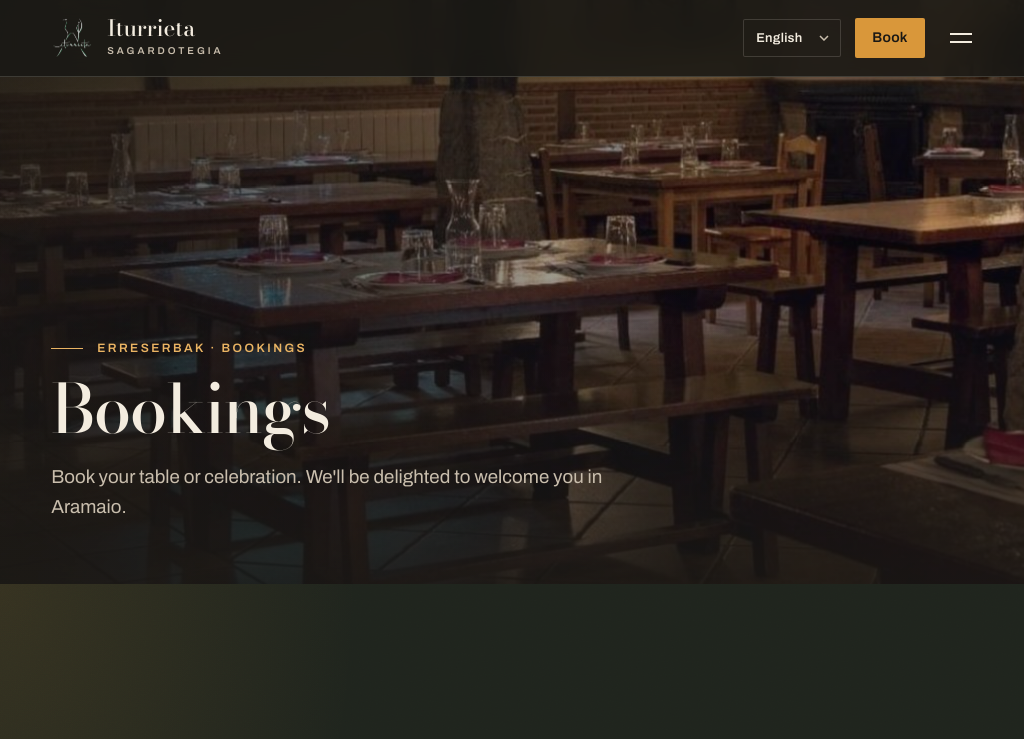
Test: switching among all five languages › translates heading, navigation, booking labels and document language
Select "Euskara" in the dropdown: (792, 38) [743,19,841,57]
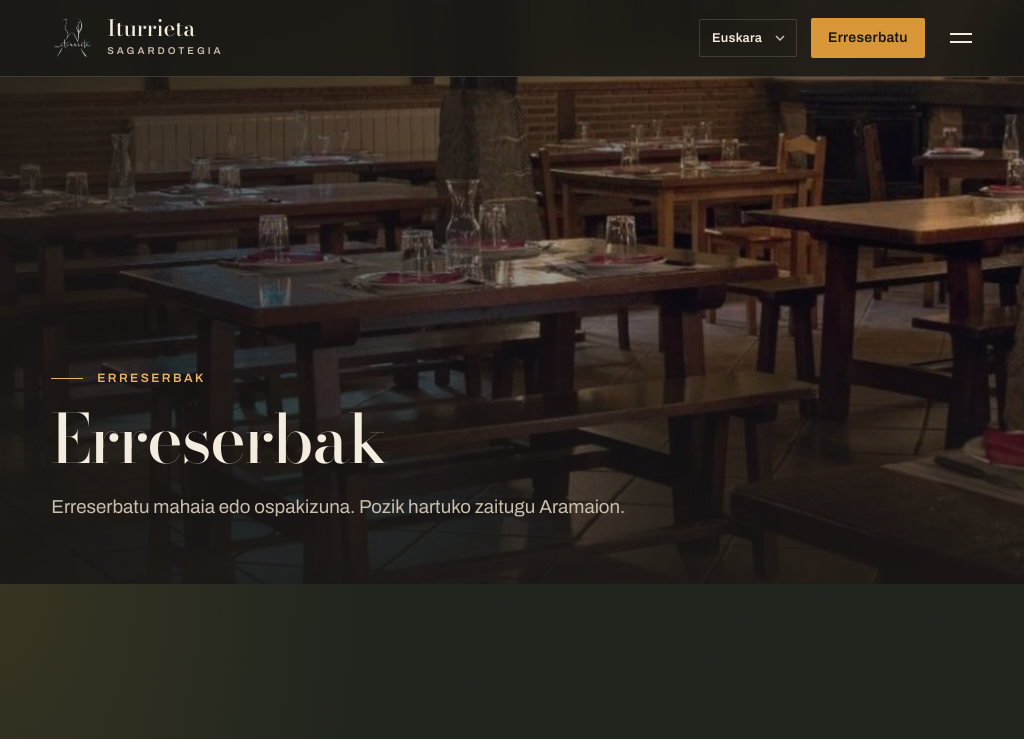
Check: the heading reads "Erreserbak", box [51,387,387,490]
Check: the link "Erreserbatu" is shown, box [811,18,925,58]
Select "Español" in the dropdown: (748, 38) [699,19,797,57]
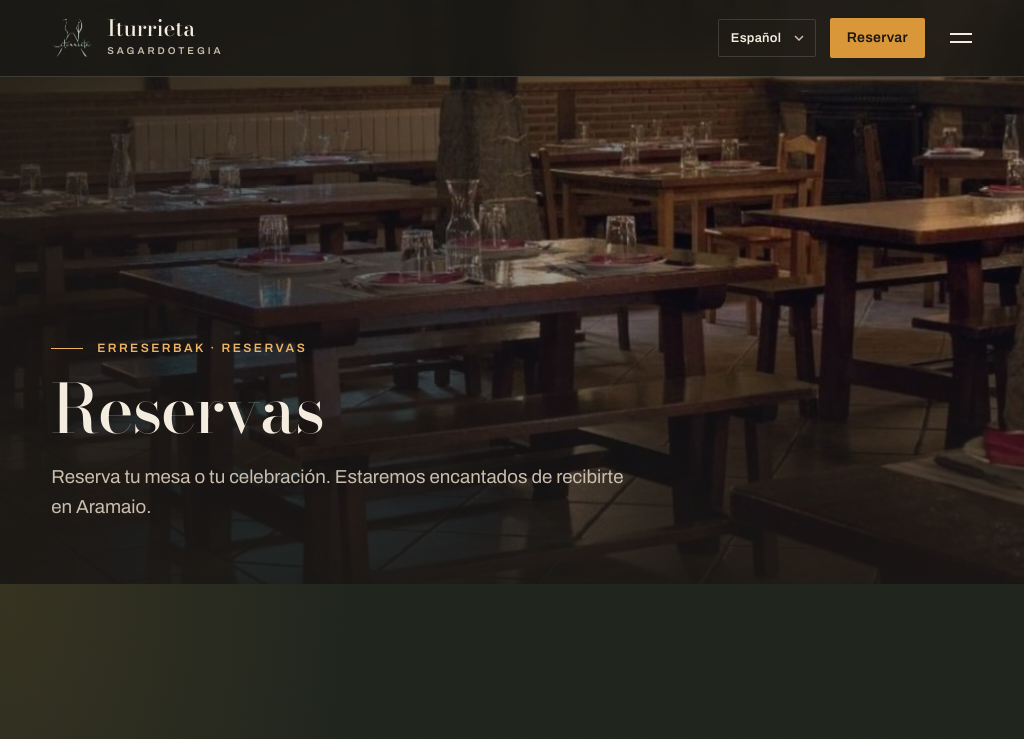
Check: the heading reads "Reservas", box [51,357,324,460]
Check: the link "Reservar" is shown, box [830,18,925,58]
Select "Français" in the dropdown: (767, 38) [718,19,816,57]
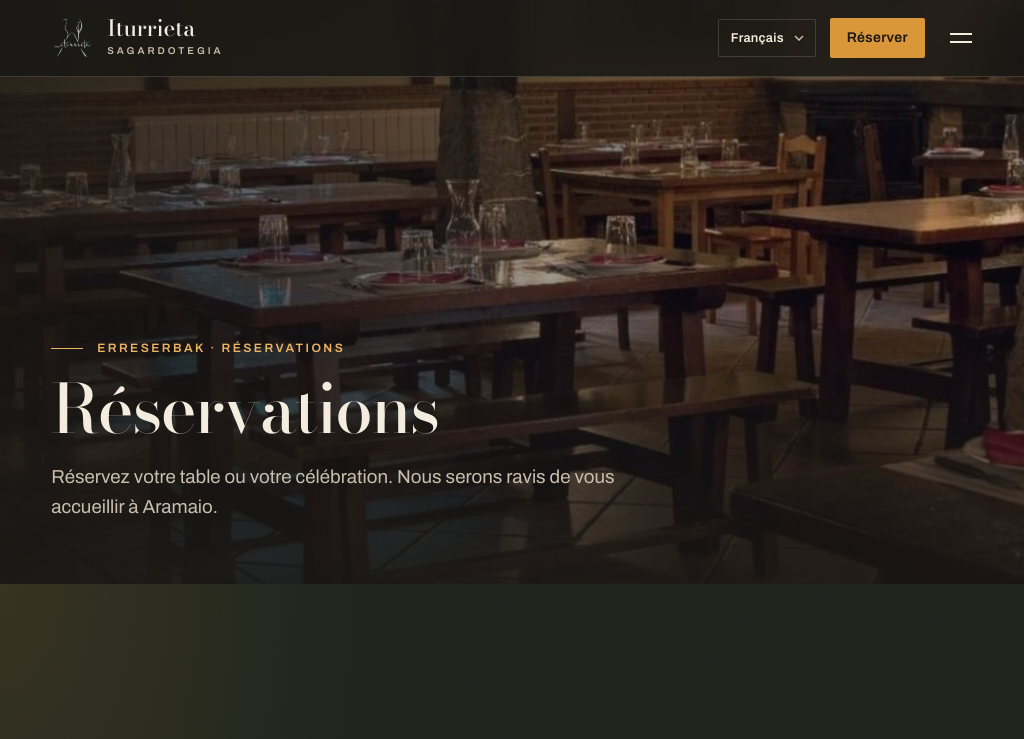
Check: the heading reads "Réservations", box [51,357,439,460]
Check: the link "Réserver" is shown, box [830,18,925,58]
Select "English" in the dropdown: (767, 38) [718,19,816,57]
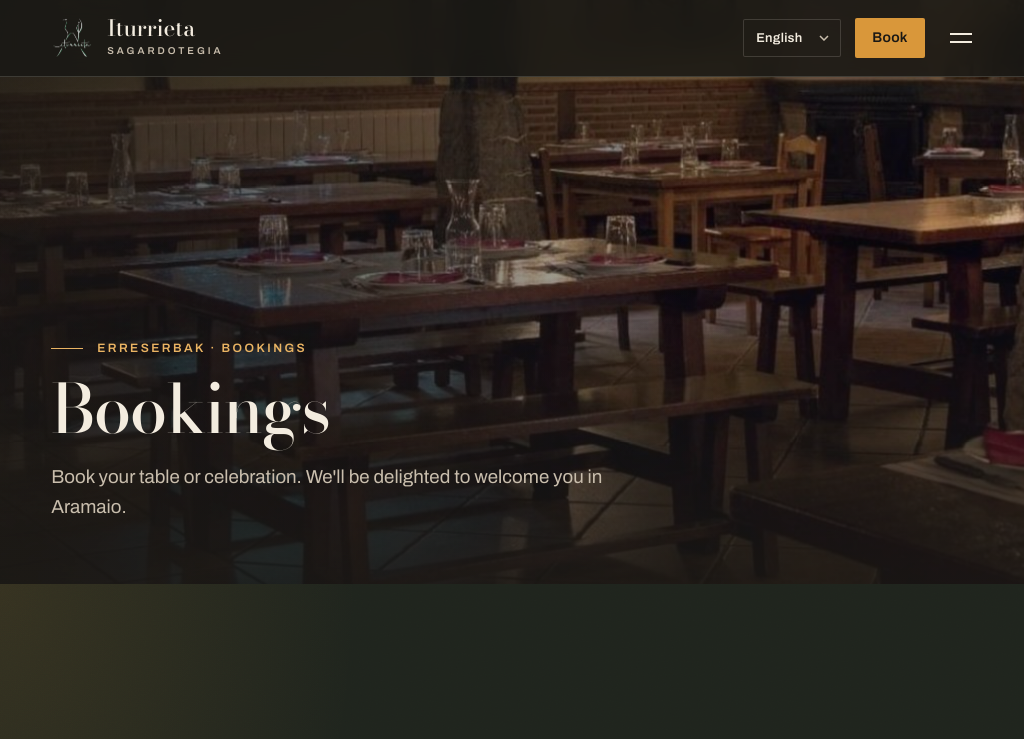
Check: the heading reads "Bookings", box [51,357,330,460]
Check: the link "Book" is shown, box [855,18,925,58]
Select "Deutsch" in the dropdown: (792, 38) [743,19,841,57]
(page scrolled)
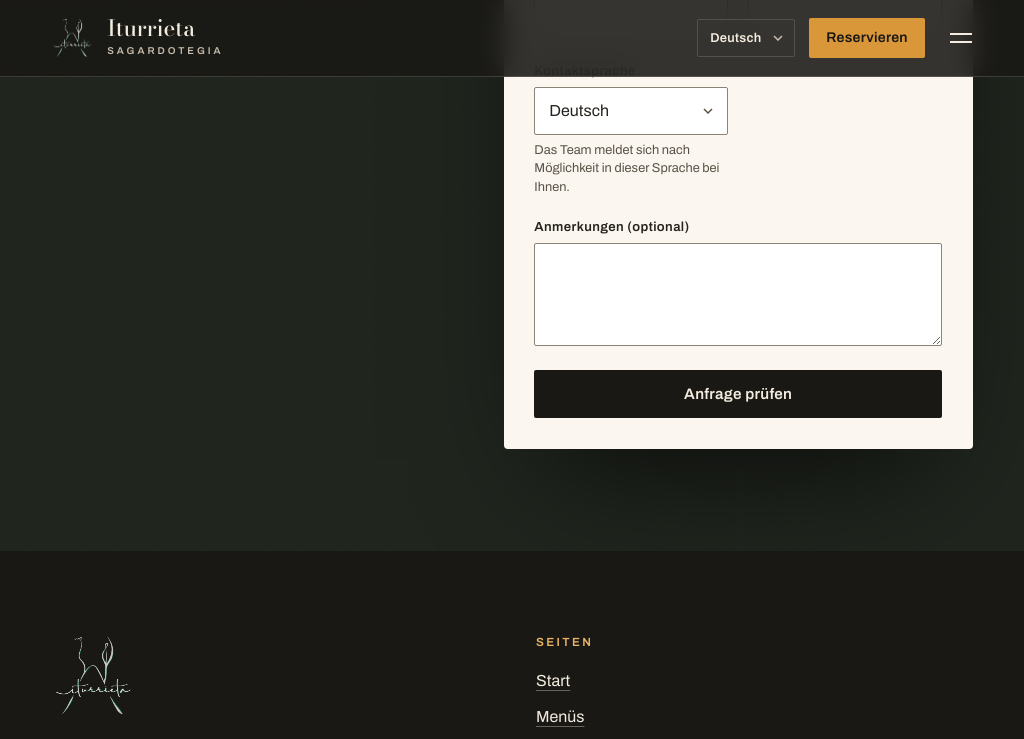
Check: the link "Reservieren" is shown, box [809,18,925,58]
Check: the button "Anfrage prüfen" is shown, box [534,370,942,418]
